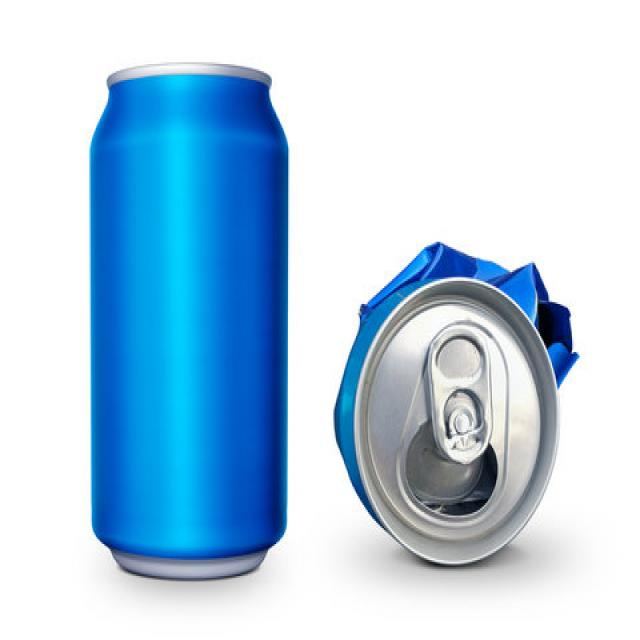non-organic waste: (75, 40, 316, 607), (330, 195, 585, 592)
